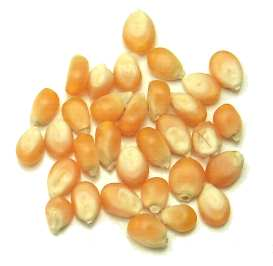corn: (15, 10, 245, 252)
